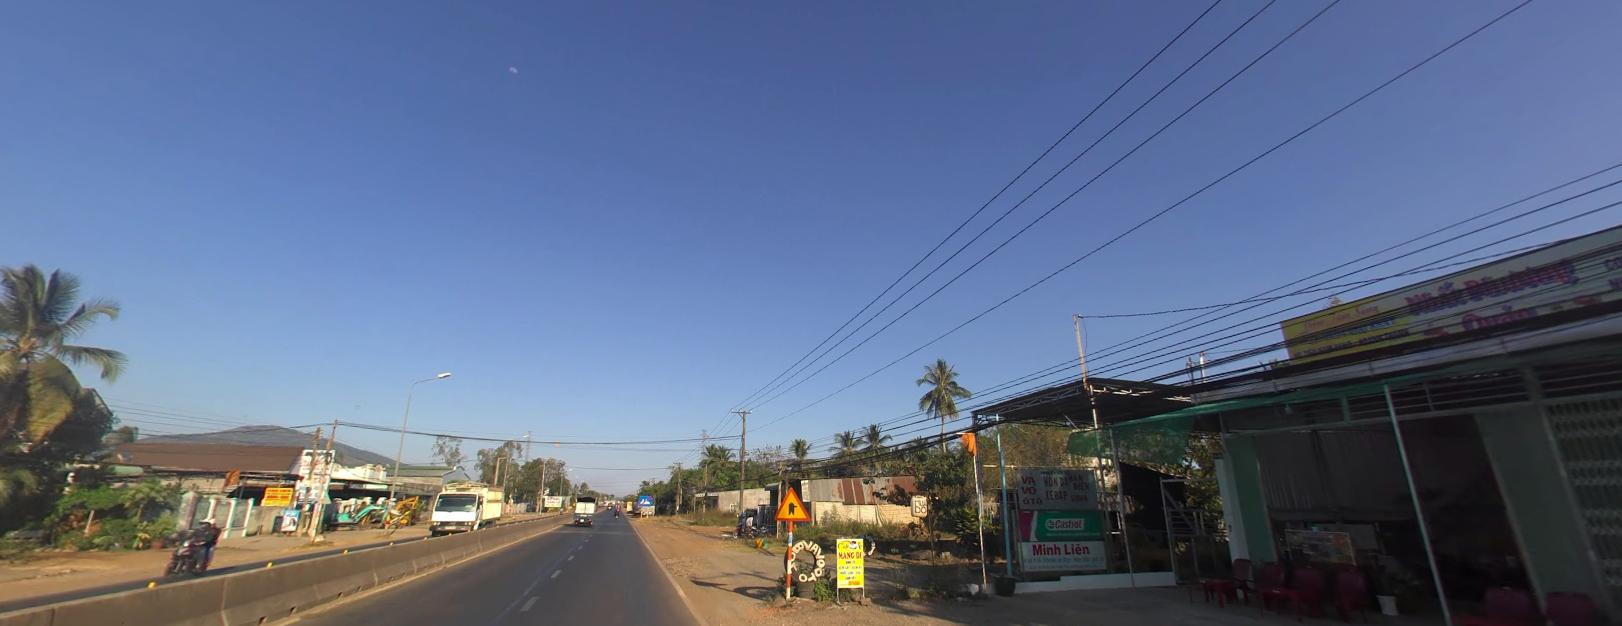Nguy hiem: (770, 481, 812, 524)
